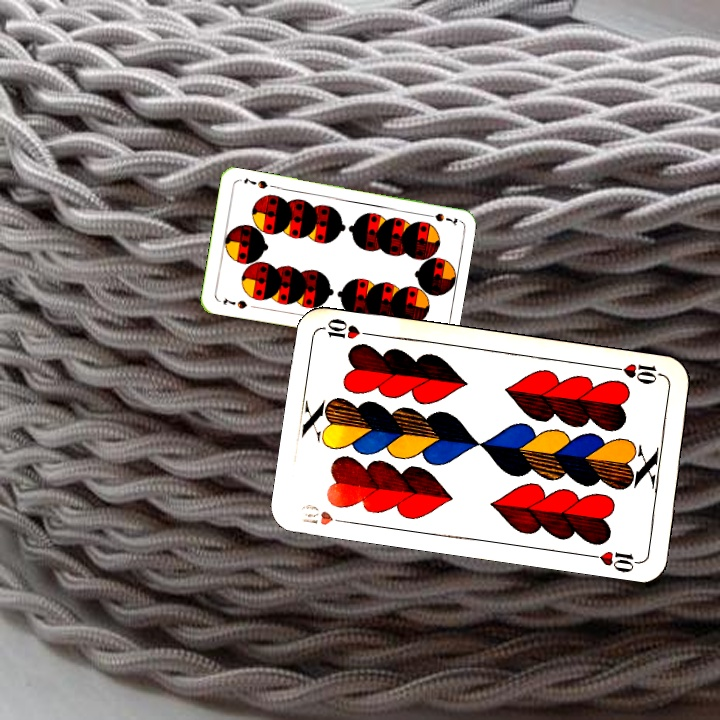H10: (608, 359, 667, 387), (297, 499, 353, 528)
S7: (421, 209, 460, 227), (219, 293, 250, 311)
